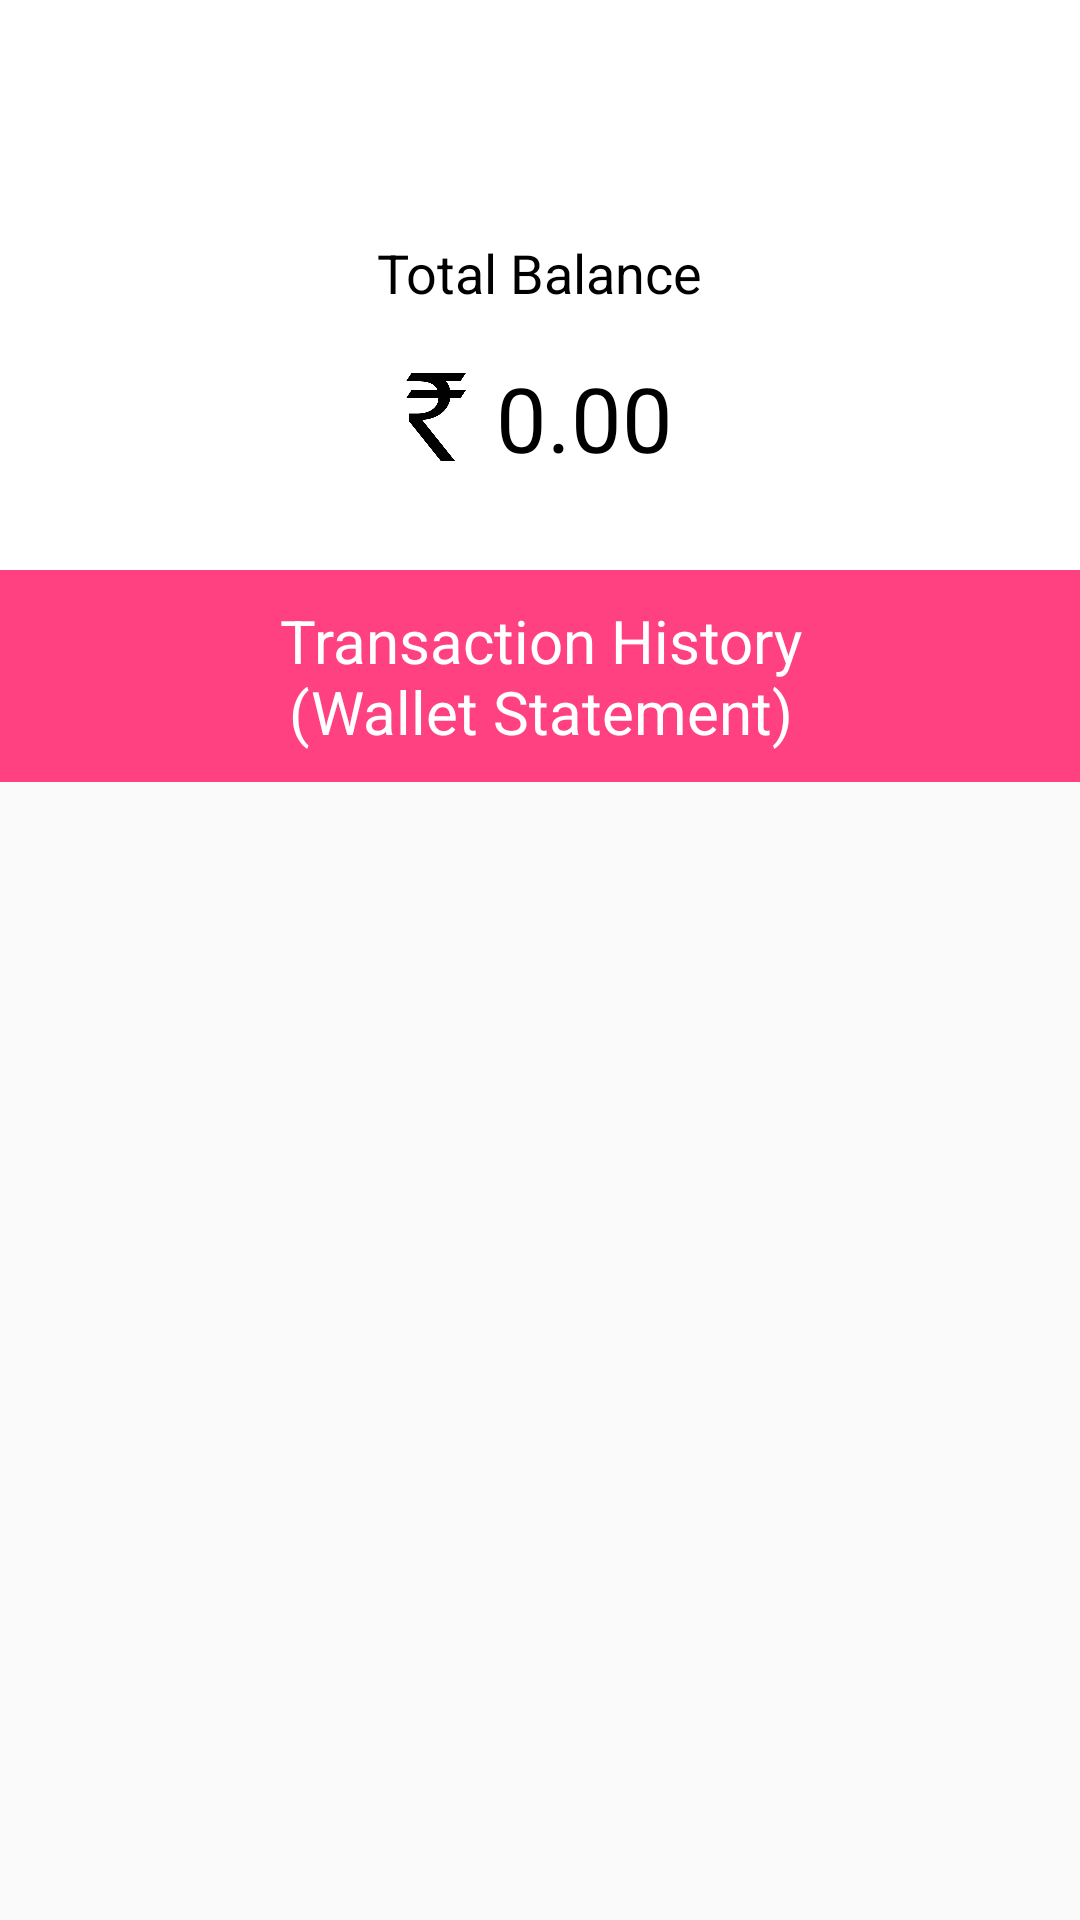

Icons on this 1080 × 1920 Android screen, each with the point to tap as [x,y]:
rupee: [436,417]
